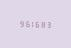eight: (42, 20, 47, 28)
nine: (17, 19, 22, 27)
one: (30, 19, 35, 27)
six: (23, 19, 28, 27), (36, 20, 41, 28)
three: (48, 20, 53, 28)
